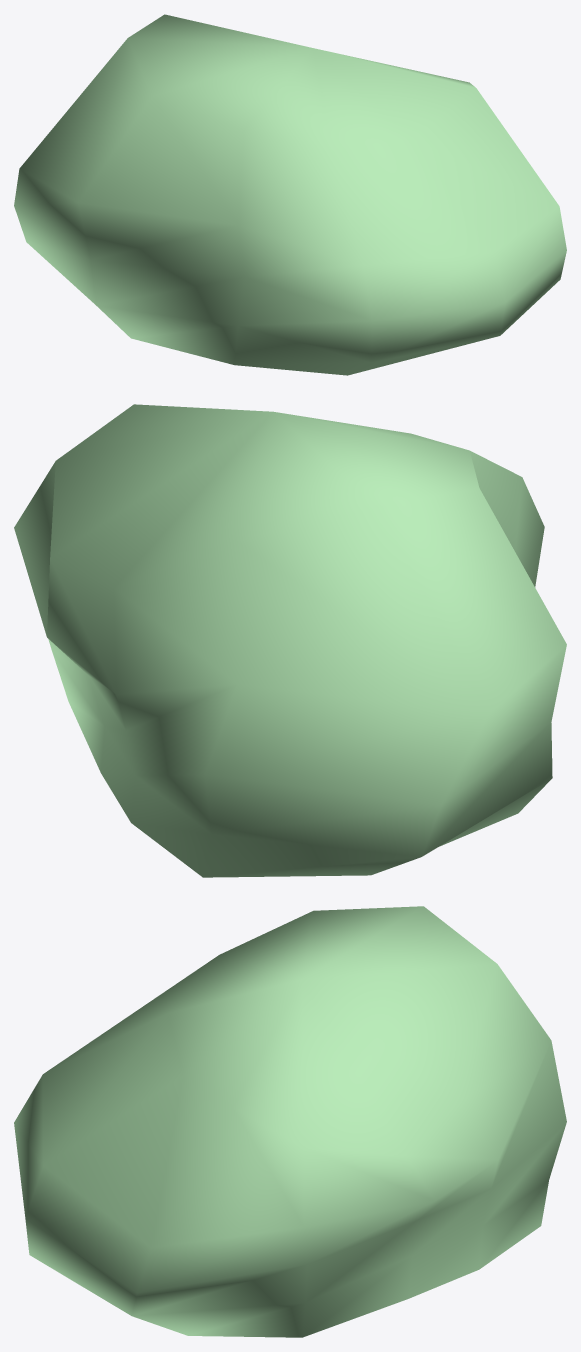
The model's file is Rock5_Small.fbx.
The picture shows the model from 3 angles, top to bottom: view 1: azimuth 30°, elevation 25°; view 2: azimuth 150°, elevation 25°; view 3: azimuth 270°, elevation 25°; orthographic projection. The views are drawn at different scales.
Visible parts, largest first — view 1: Rock5_Small; view 2: Rock5_Small; view 3: Rock5_Small.
Boxes of the visible parts, bbox=[...] form: Rock5_Small: bbox=[14, 14, 566, 375]; Rock5_Small: bbox=[14, 404, 566, 877]; Rock5_Small: bbox=[14, 906, 566, 1337].
Bounding box in the file's own units: 513 × 307 × 532.
